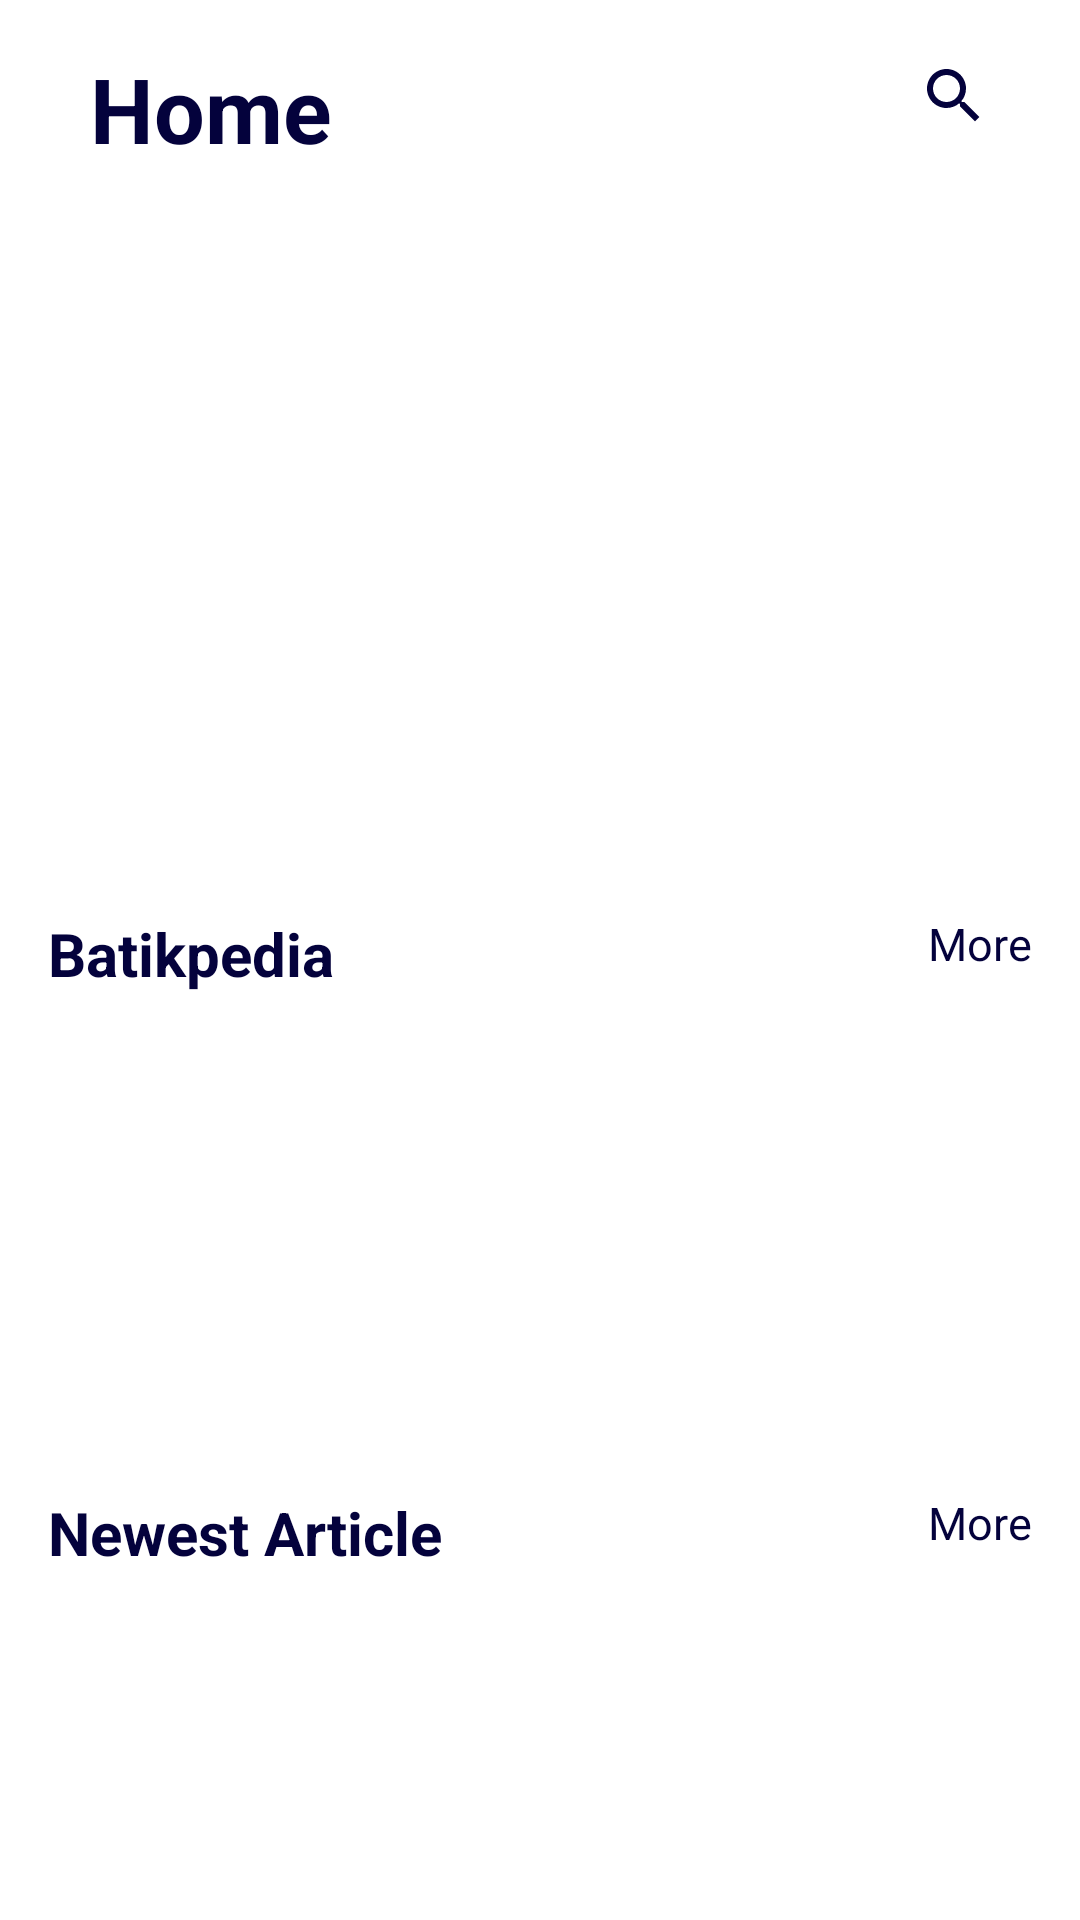

Screen size 1080 × 1920. Icon name, then its box in pixels as (x1, y1, x2, y2):
search: (927, 69, 979, 121)
